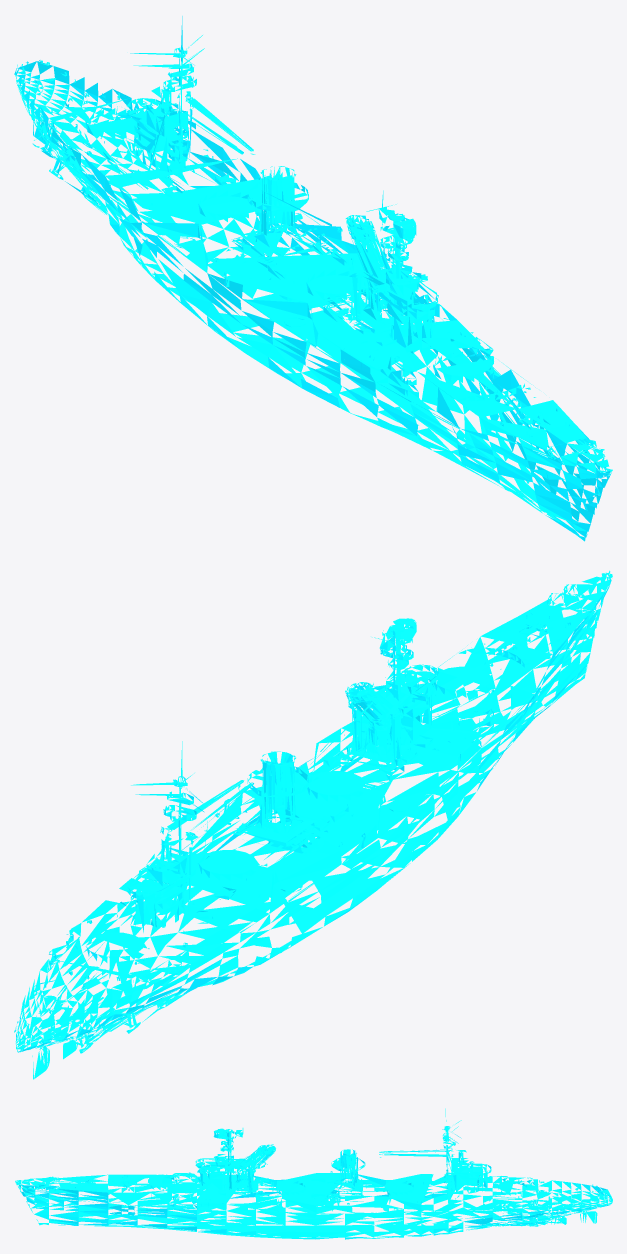
Rendered from Izmail.glb.
The picture shows the model from 3 angles, top to bottom: view 1: azimuth 30°, elevation 25°; view 2: azimuth 150°, elevation 25°; view 3: azimuth 270°, elevation 25°; orthographic projection. The views are drawn at different scales.
Size of the model in its own units: 2.18 by 3.24 by 14.99.
